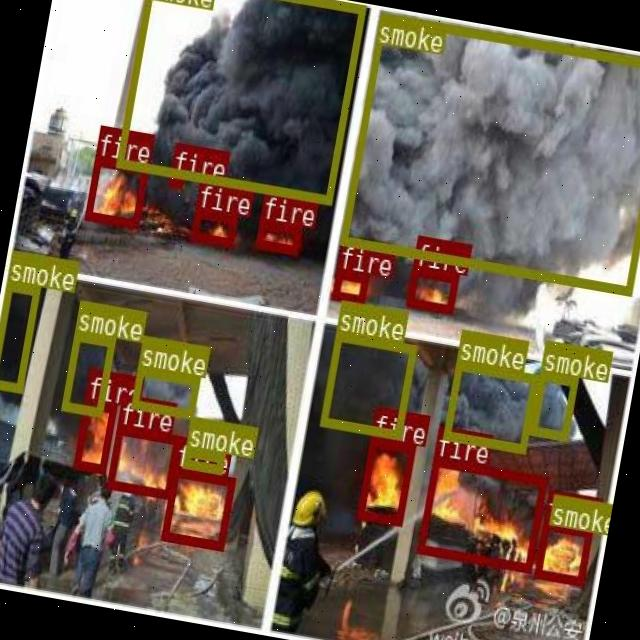fire: (416, 456, 546, 571), (160, 466, 236, 548), (106, 424, 179, 496), (356, 436, 414, 524), (84, 156, 146, 226), (533, 518, 591, 584), (72, 398, 116, 472), (406, 264, 458, 312), (189, 208, 237, 245), (254, 218, 300, 252), (331, 267, 367, 302), (168, 172, 182, 185)
smoke: (339, 10, 640, 294), (115, 0, 365, 202), (319, 329, 416, 437), (442, 358, 538, 452), (61, 330, 115, 416), (0, 280, 38, 390), (130, 365, 198, 417), (528, 369, 576, 438), (180, 445, 223, 471), (550, 492, 580, 522)
